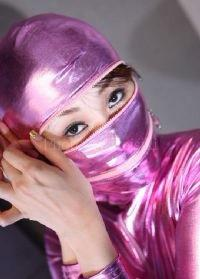OK: (38, 76, 151, 189)
